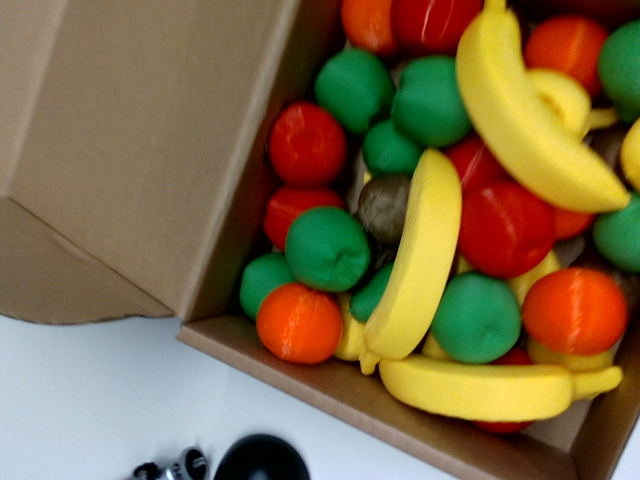banana: (420, 0, 634, 252), (349, 145, 485, 389), (374, 351, 580, 429)
green apple: (422, 262, 535, 378), (301, 34, 412, 145), (378, 50, 475, 157), (279, 200, 376, 297), (597, 19, 640, 123)
orange: (517, 262, 632, 359), (246, 273, 353, 375), (516, 0, 623, 99), (341, 0, 398, 58)
red apple: (458, 181, 555, 278), (268, 101, 346, 186), (391, 0, 482, 56)
walnut: (351, 167, 412, 247)
